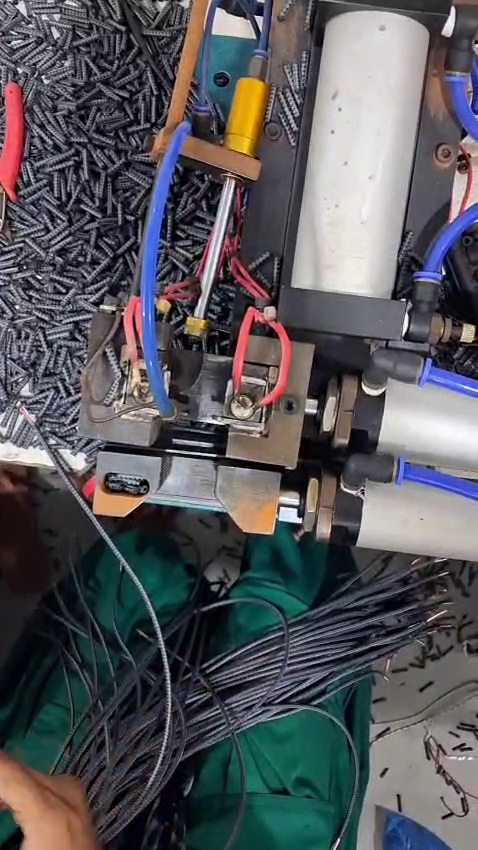machine: (76, 286, 323, 506)
peeled_wire: (3, 395, 63, 456)
